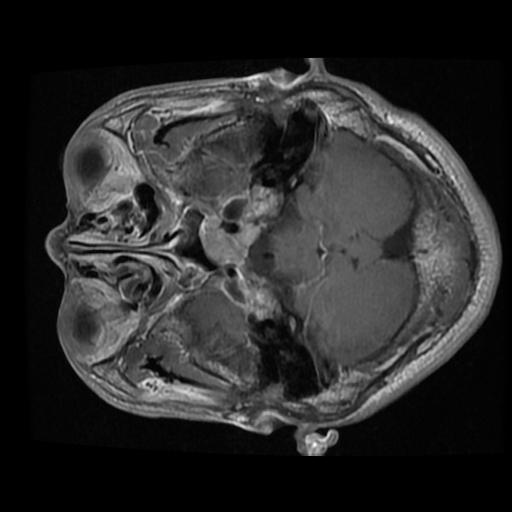pituitary tumour: (198, 217, 254, 267)
